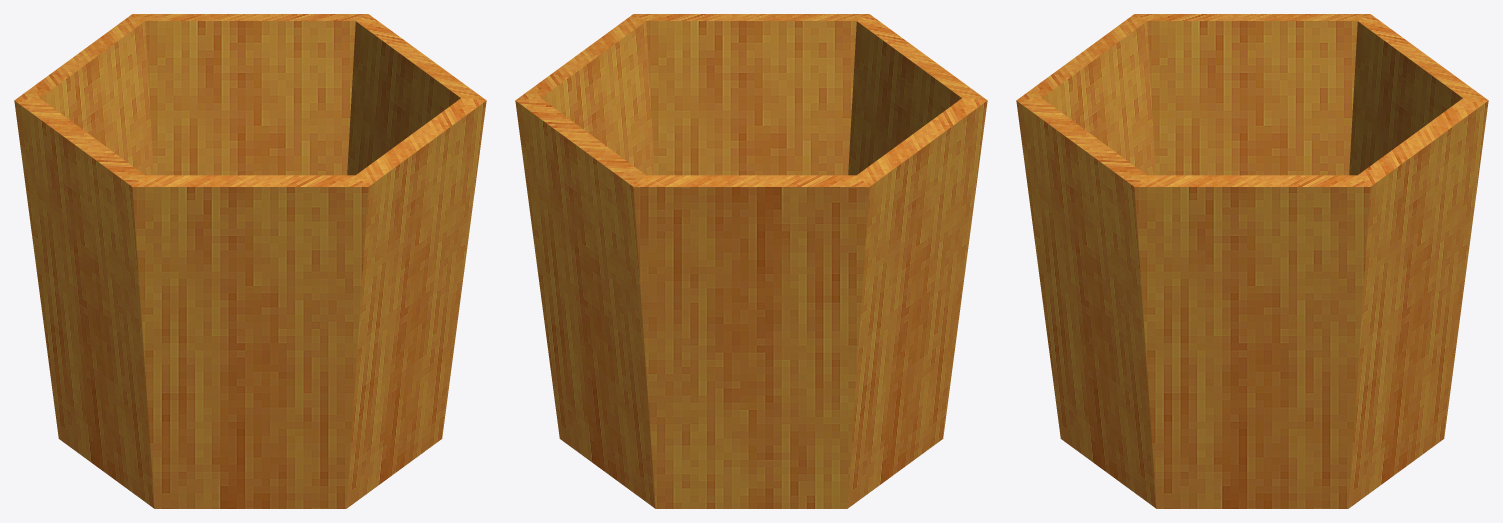
The model's file is SM_StationaryPot.fbx.
The picture shows the model from 3 angles, left to right: view 1: azimuth 30°, elevation 25°; view 2: azimuth 150°, elevation 25°; view 3: azimuth 270°, elevation 25°; orthographic projection.
Visible parts, largest first — view 1: SM_StationaryPot; view 2: SM_StationaryPot; view 3: SM_StationaryPot.
Boxes of the visible parts, <box> form: SM_StationaryPot: <box>14,14,486,508</box>; SM_StationaryPot: <box>515,14,987,508</box>; SM_StationaryPot: <box>1016,14,1488,508</box>.
Size of the model in its own units: 8.85 by 8.13 by 10.21.
